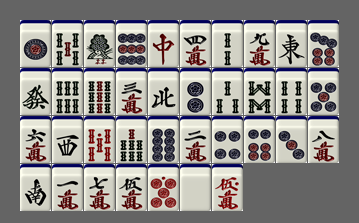0m: (212, 164, 243, 211)
0p: (148, 164, 179, 211)
0s: (84, 116, 115, 163)
1m: (52, 164, 83, 211)
1p: (20, 20, 51, 67)
1s: (84, 20, 115, 67)
1z: (276, 20, 307, 67)
2m: (180, 116, 211, 163)
2p: (180, 68, 211, 115)
2s: (212, 20, 243, 67)
2z: (20, 164, 51, 211)
3m: (116, 68, 147, 115)
3p: (276, 116, 307, 163)
3s: (212, 68, 243, 115)
3z: (52, 116, 83, 163)
4m: (180, 20, 211, 67)
4p: (212, 116, 243, 163)
4s: (276, 68, 307, 115)
4z: (148, 68, 179, 115)
5m: (116, 164, 147, 211)
5p: (308, 68, 339, 115)
5s: (52, 20, 83, 67)
5z: (180, 164, 211, 211)
6m: (20, 116, 51, 163)
6p: (244, 116, 275, 163)
6s: (52, 68, 83, 115)
6z: (20, 68, 51, 115)
7m: (84, 164, 115, 211)
7p: (308, 20, 339, 67)
7s: (116, 116, 147, 163)
7z: (148, 20, 179, 67)
8m: (308, 116, 339, 163)
8p: (148, 116, 179, 163)
8s: (244, 68, 275, 115)
9m: (244, 20, 275, 67)
9p: (116, 20, 147, 67)
9s: (84, 68, 115, 115)
